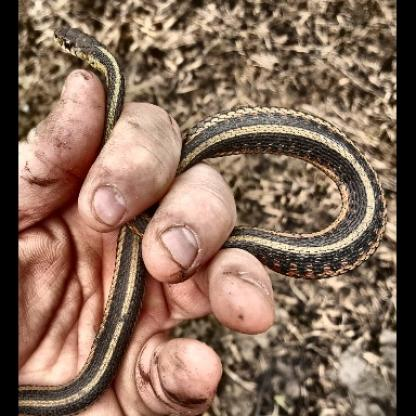Snake: (49, 27, 390, 360)
